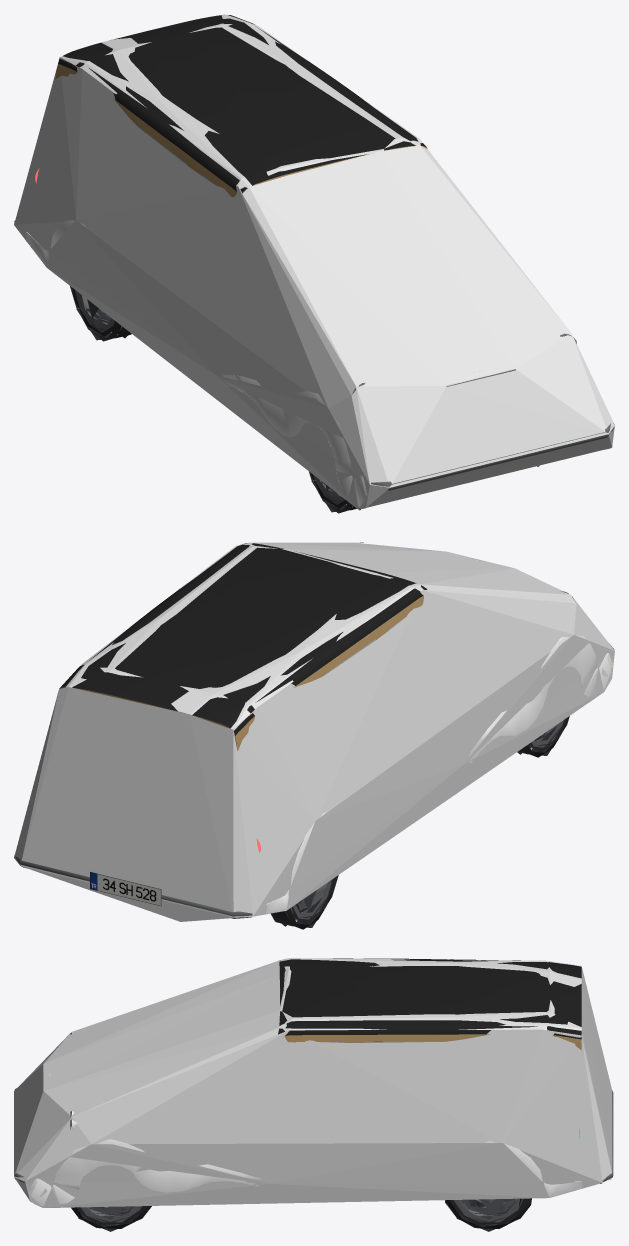
Rendered from bosfor_sahil_lod1.glb.
3 views of the same model, one above another, from view 1: azimuth 30°, elevation 25°; view 2: azimuth 150°, elevation 25°; view 3: azimuth 270°, elevation 25° (orthographic). The views are drawn at different scales.
Parts seen in each view (by area): view 1: col_body, trim, body, interior, wheel_RR, wheel_FR; view 2: col_body, trim, body, interior, wheel_RR, plate_rear, wheel_FR; view 3: col_body, trim, body, wheel_RL, interior, wheel_FL.
Part boxes in pixels (x1,y1,x2,y2): col_body: (14,14,614,509); trim: (14,15,614,490); body: (26,220,610,509); interior: (55,15,427,197); wheel_RR: (70,286,131,341); wheel_FR: (309,471,360,513); col_body: (14,542,614,921); trim: (14,542,614,918); body: (265,542,612,913); interior: (59,544,423,751); wheel_RR: (271,875,338,929); plate_rear: (90,872,161,906); wheel_FR: (517,716,569,757); col_body: (14,958,612,1207); trim: (14,958,613,1183); body: (28,1032,582,1207); wheel_RL: (445,1198,531,1231); interior: (279,962,581,1049); wheel_FL: (71,1206,151,1231).
Bounding box in the file's own units: 1.78 × 1.73 × 4.69.
10 materials, 1 textured.
